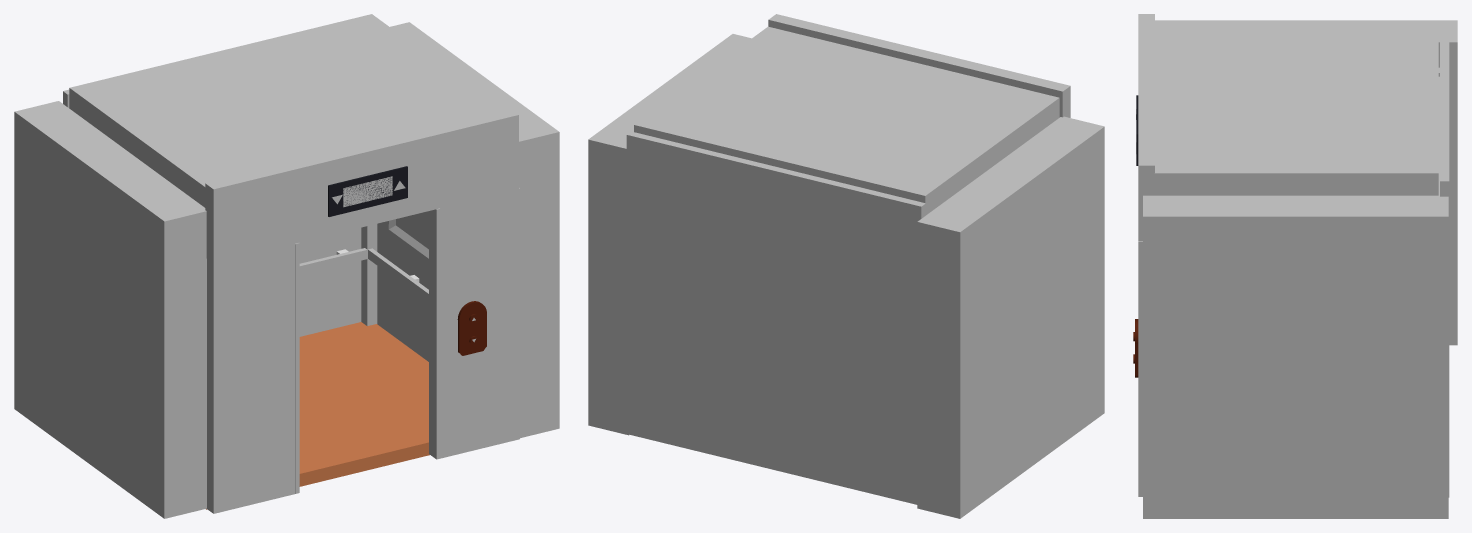
Rendered from elevator.obj.
The picture shows the model from 3 angles, left to right: view 1: azimuth 30°, elevation 25°; view 2: azimuth 150°, elevation 25°; view 3: azimuth 270°, elevation 25°; orthographic projection. The views are drawn at different scales.
Parts seen in each view (by area): view 1: Union11, Union9, Part34, Leftdoor1, Union1, Rightdoor1, Car11, Union7, Part43, Part35, Part8, Union3 (+4 smaller); view 2: Union7, Union11, Union9, Union1, Part34; view 3: Union1, Union9, Union11, Part34, Union7, Rightdoor1.
Part boxes in pixels (<box>): Union11: <box>14,101,206,518</box>; Union9: <box>69,14,503,207</box>; Part34: <box>205,109,518,263</box>; Leftdoor1: <box>207,243,294,513</box>; Union1: <box>377,22,559,438</box>; Rightdoor1: <box>441,188,519,458</box>; Car11: <box>206,322,429,509</box>; Union7: <box>63,89,361,336</box>; Part43: <box>429,208,440,459</box>; Part35: <box>328,166,407,216</box>; Part8: <box>361,224,377,325</box>; Union3: <box>457,301,486,355</box>; Union7: <box>626,131,925,504</box>; Union11: <box>917,116,1104,518</box>; Union9: <box>634,26,1059,215</box>; Union1: <box>588,34,751,435</box>; Part34: <box>768,14,1070,117</box>; Union1: <box>1143,195,1448,518</box>; Union9: <box>1154,23,1438,195</box>; Union11: <box>1155,20,1457,345</box>; Part34: <box>1138,14,1154,240</box>; Union7: <box>1440,29,1449,497</box>; Rightdoor1: <box>1138,241,1142,496</box>.
Size of the model in its own units: 12.61 by 10.06 by 8.92.
